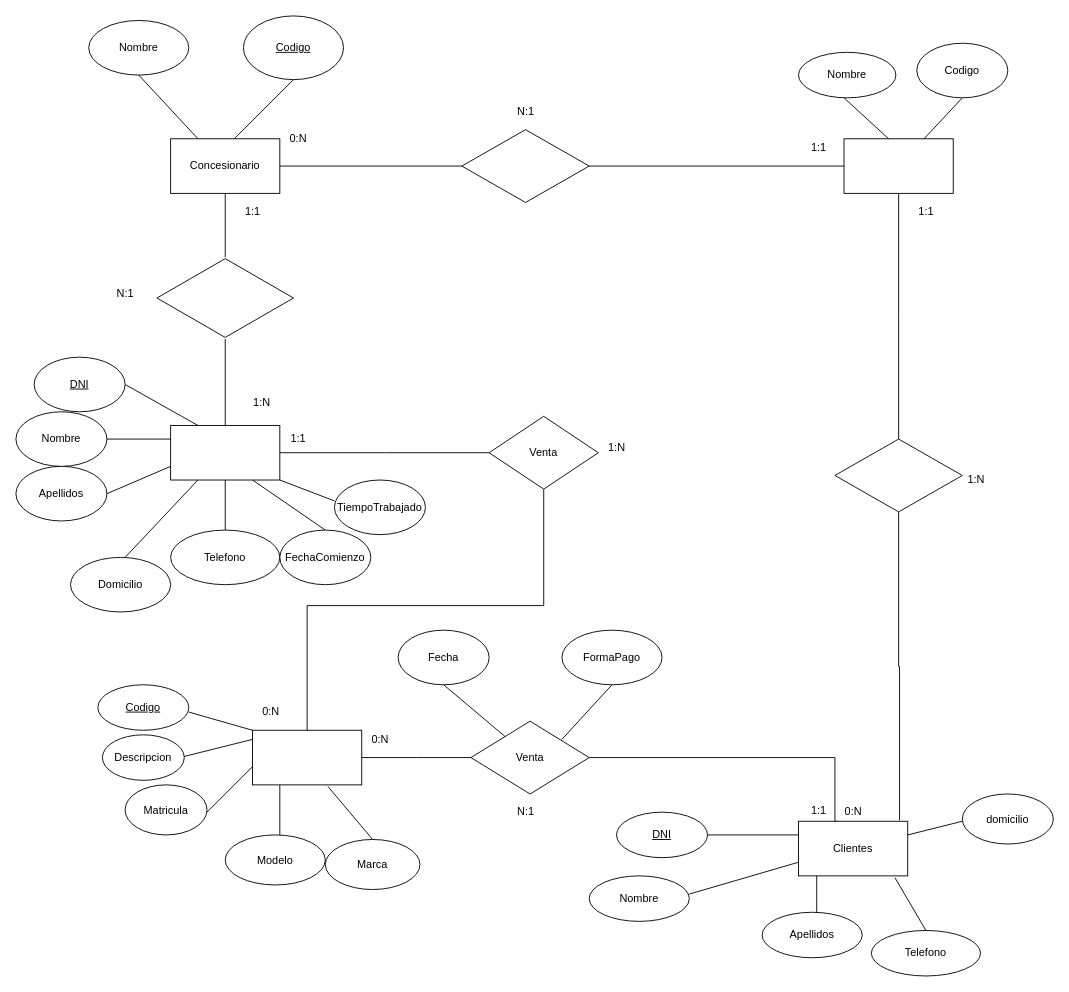
The diagram is 1069 pixels wide and 992 high, and some of its shapes have lost their labels. Each missing label, with the centre of its shape:
Ciudad: pixel 898 165
Coches: pixel 307 757
Distribuir: pixel 525 165
Empleados: pixel 225 452
Residir: pixel 898 475
Trabajar: pixel 224 297
